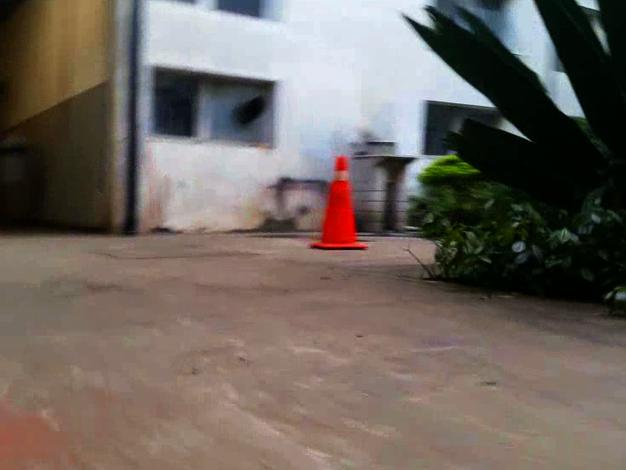0 cone: (309, 153, 369, 249)
